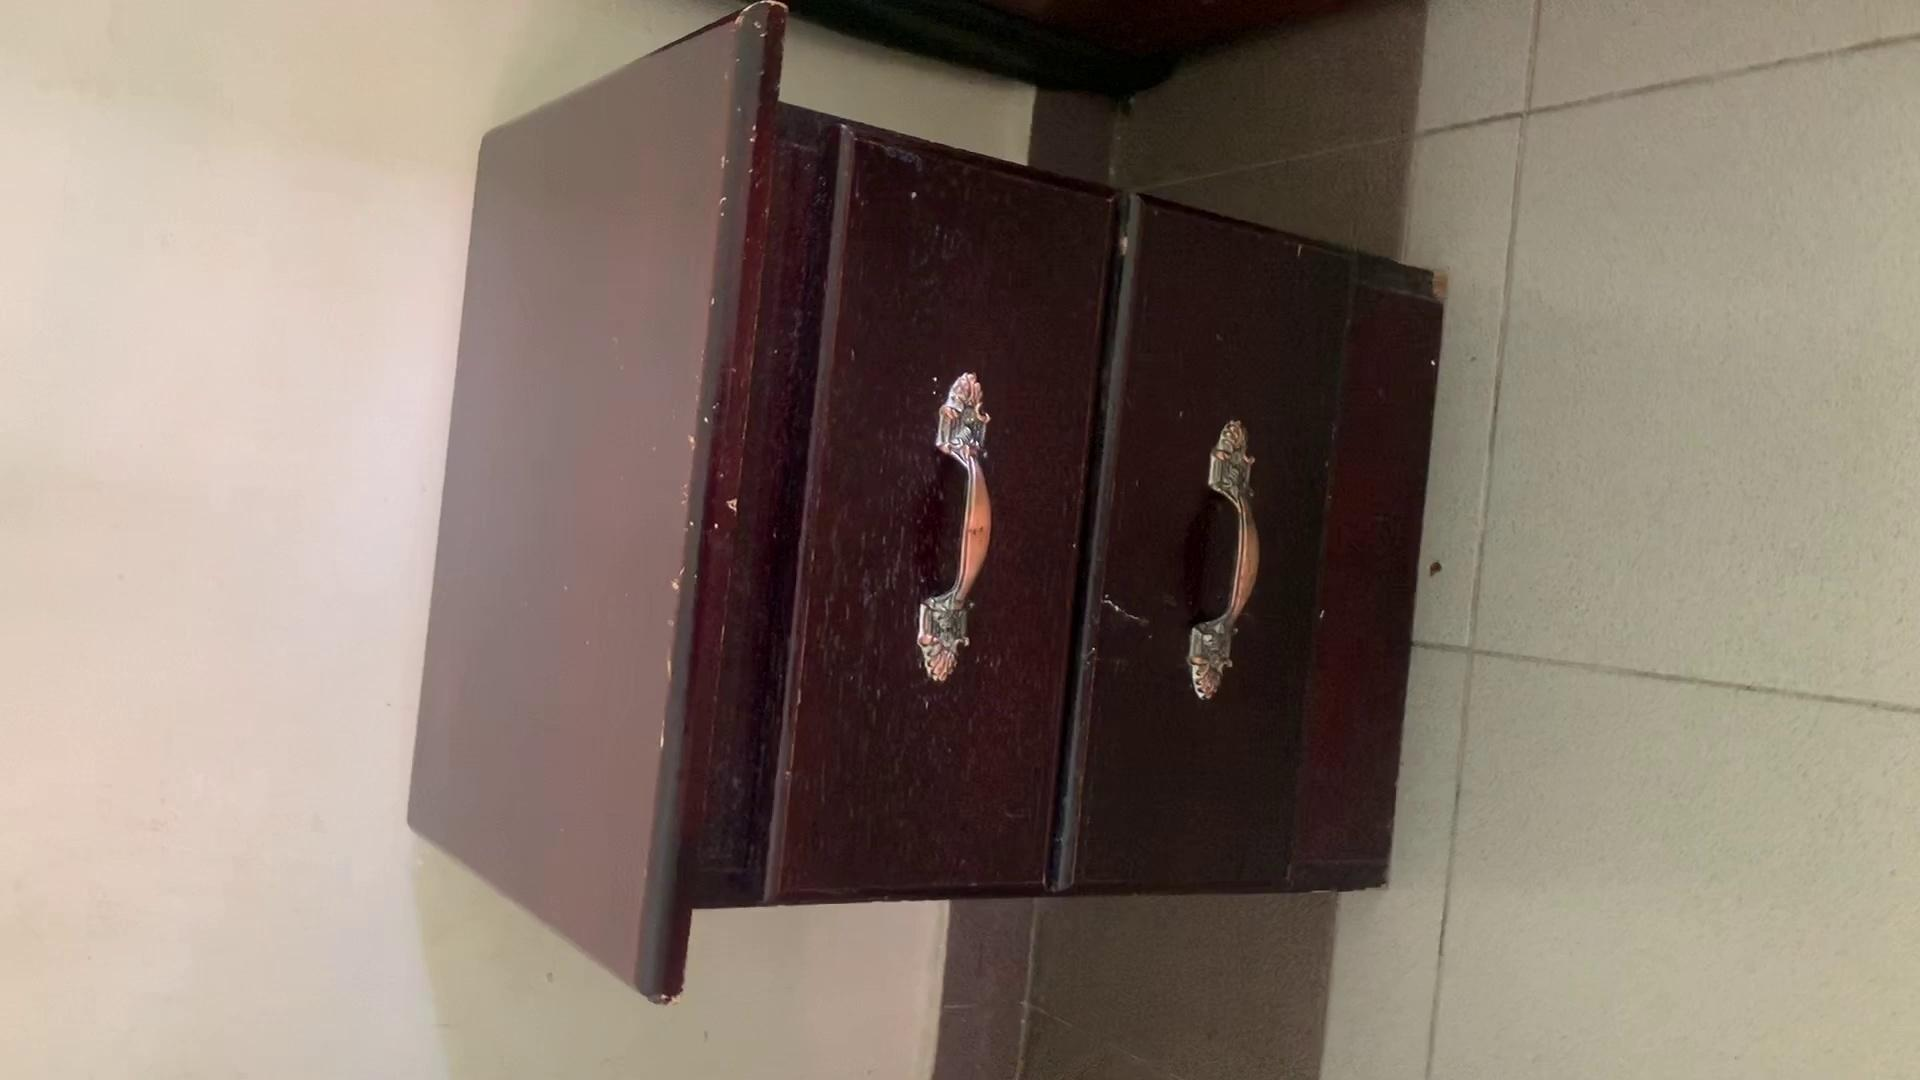cabinet_door: (833, 170, 1077, 915), (1106, 229, 1325, 885)
handle: (903, 365, 1004, 692), (1196, 429, 1265, 667)
